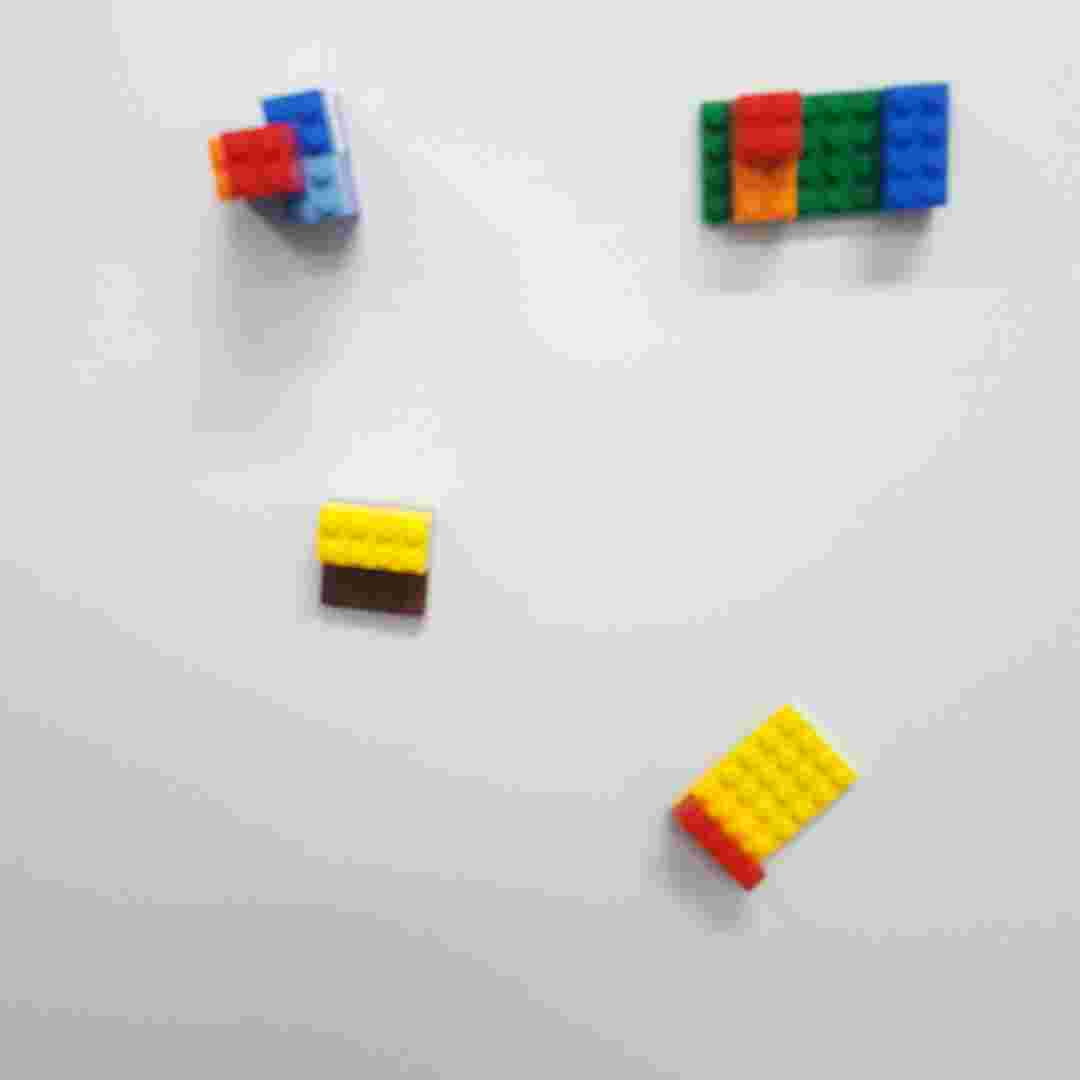LEGO: (696, 76, 957, 235), (655, 706, 857, 896), (205, 86, 366, 243), (315, 501, 436, 619)
